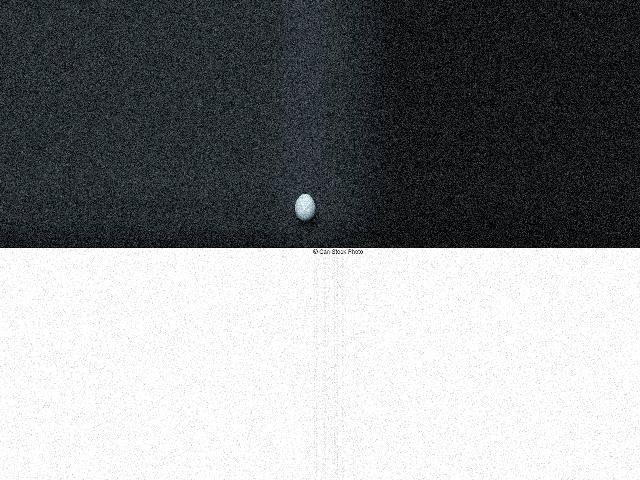egg: (294, 193, 315, 221)
